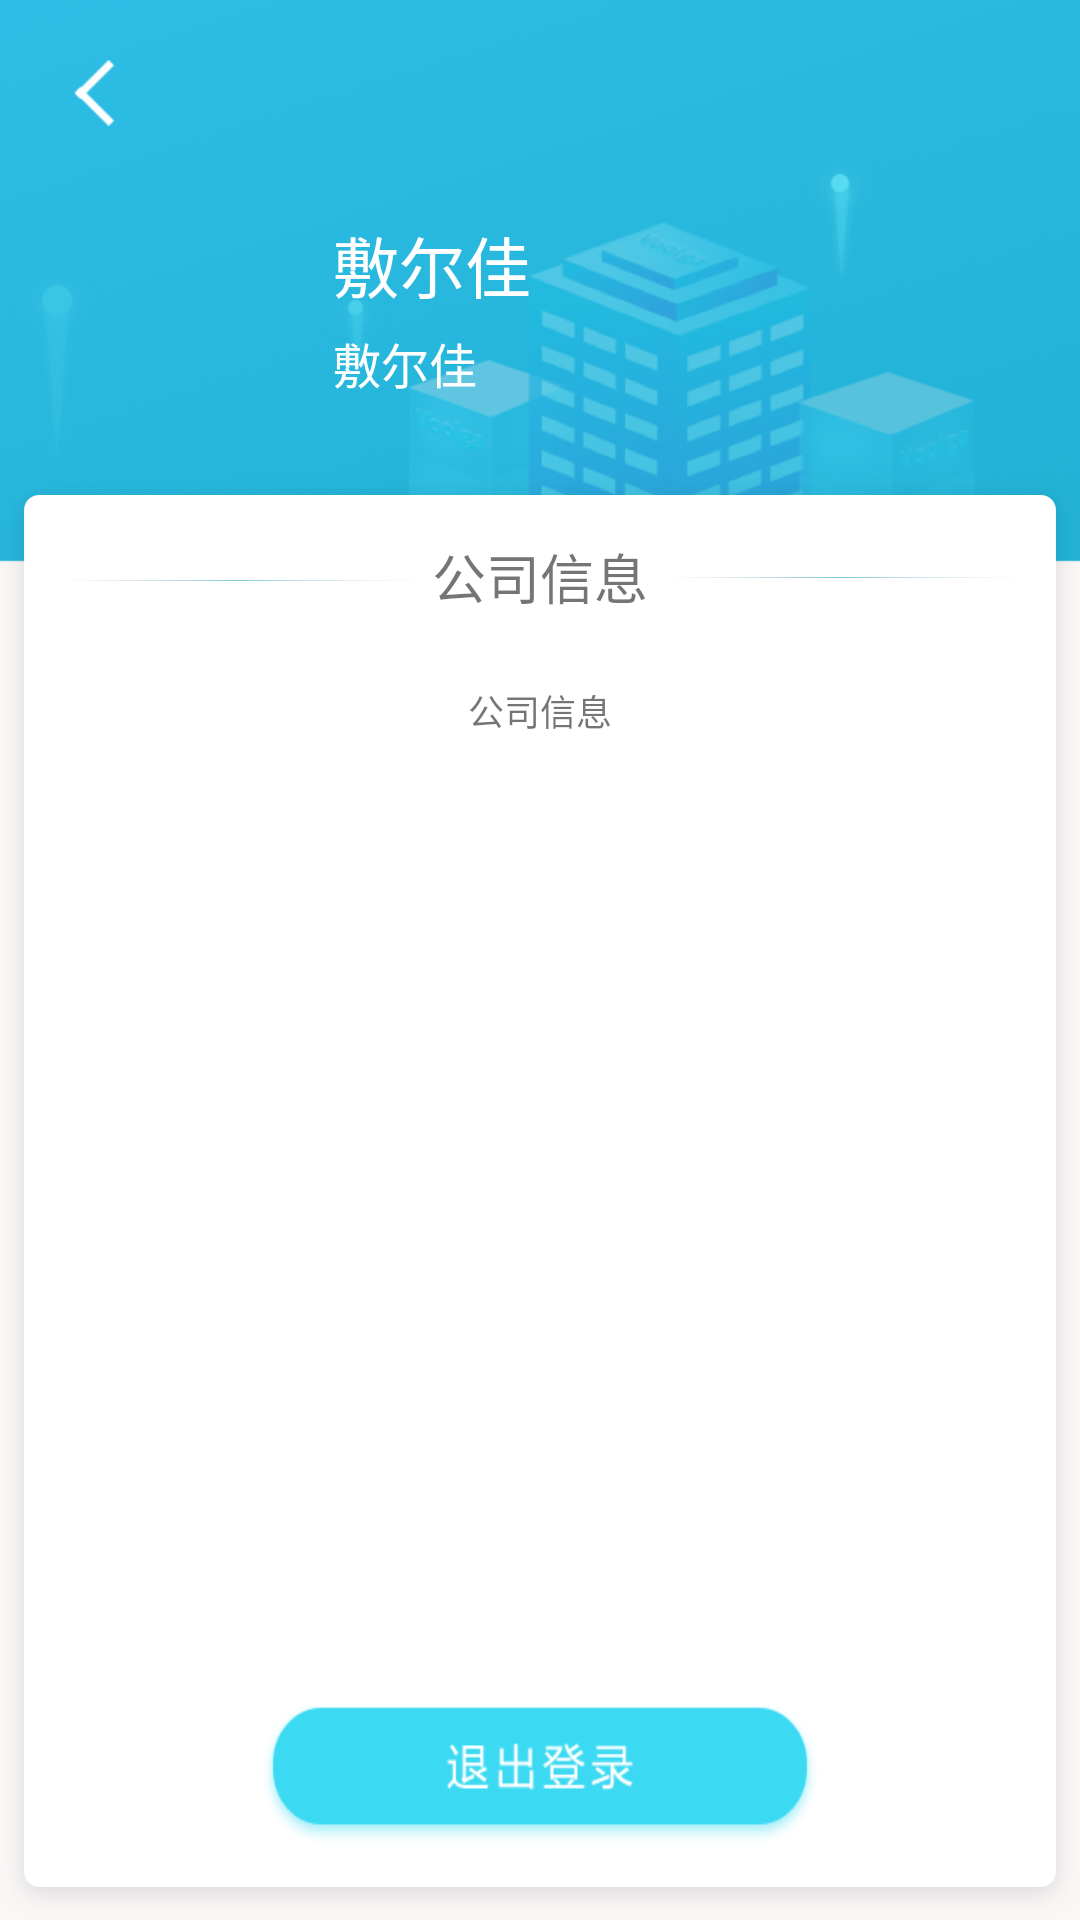

Screen size 1080 × 1920. Icon name, then its box in pixels as (x1, y1, x2, y2):
return: (74, 60, 114, 126)
